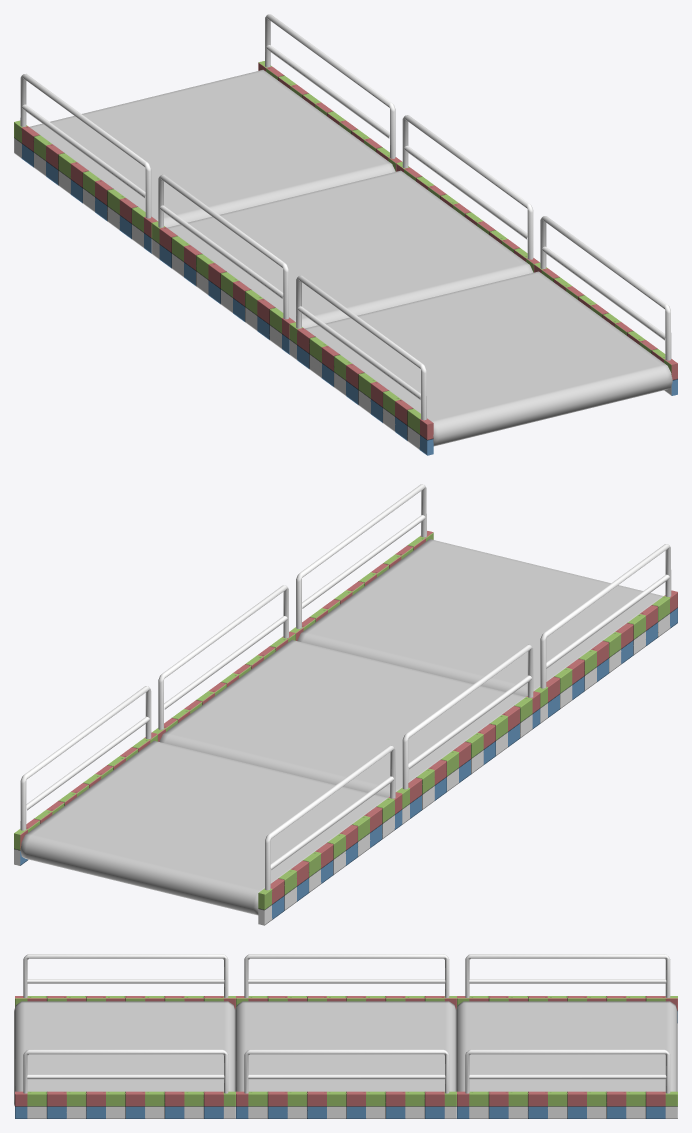
File: belt.glb
The picture shows the model from 3 angles, top to bottom: view 1: azimuth 30°, elevation 25°; view 2: azimuth 150°, elevation 25°; view 3: azimuth 270°, elevation 25°; orthographic projection. The views are drawn at different scales.
Visible parts, largest first — view 1: RoundBelt1m.002, RoundBelt1m, RoundBelt1m.001, Thin 1m (2), Thin 1m (1), Thin 1m, Railing1m, Railing1m.001, Railing1m.002; view 2: RoundBelt1m, RoundBelt1m.001, RoundBelt1m.002, Thin 1m, Thin 1m (1), Thin 1m (2), Railing1m.001, Railing1m, Railing1m.002; view 3: RoundBelt1m.002, RoundBelt1m, RoundBelt1m.001, Thin 1m, Thin 1m (1), Thin 1m (2), Railing1m, Railing1m.002, Railing1m.001.
Part boxes in pixels (x1,y1,x2,y2): RoundBelt1m.002: (305, 271, 672, 446); RoundBelt1m: (29, 70, 395, 227); RoundBelt1m.001: (167, 170, 533, 328); Thin 1m (2): (289, 262, 677, 455); Thin 1m (1): (151, 161, 539, 354); Thin 1m: (14, 61, 401, 253); Railing1m: (20, 14, 395, 218); Railing1m.001: (158, 115, 533, 319); Railing1m.002: (296, 216, 671, 420); RoundBelt1m: (20, 740, 387, 915); RoundBelt1m.001: (159, 640, 525, 797); RoundBelt1m.002: (297, 539, 663, 696); Thin 1m: (14, 732, 402, 925); Thin 1m (1): (152, 631, 540, 824); Thin 1m (2): (290, 531, 677, 723); Railing1m.001: (158, 585, 533, 789); Railing1m: (20, 686, 395, 890); Railing1m.002: (296, 484, 671, 688); RoundBelt1m.002: (14, 1001, 235, 1105); RoundBelt1m: (456, 1001, 677, 1091); RoundBelt1m.001: (235, 1001, 456, 1091); Thin 1m: (457, 996, 677, 1118); Thin 1m (1): (236, 996, 456, 1118); Thin 1m (2): (15, 996, 235, 1118); Railing1m: (465, 954, 670, 1093); Railing1m.002: (23, 954, 228, 1093); Railing1m.001: (244, 954, 449, 1093).
Bounding box in the file's own units: 1.05 × 0.3385 × 3.01.
Materials: 3 (1 with a texture image).
